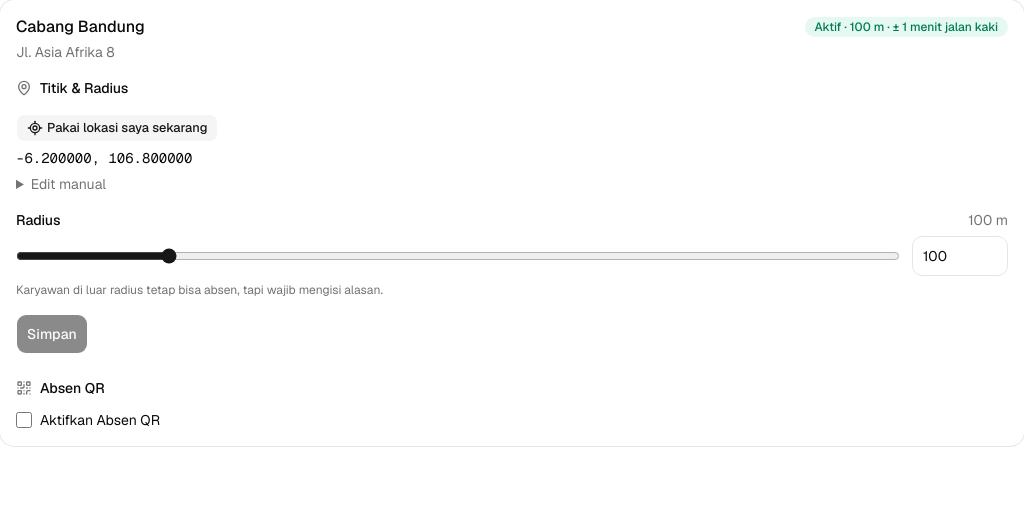
Test case: LocationForm › shows the returned error in an Alert when the save fails
Replace the text in the number field named "radius dalam meter" with "150" at x=960, y=256, box [912,236,1008,276]
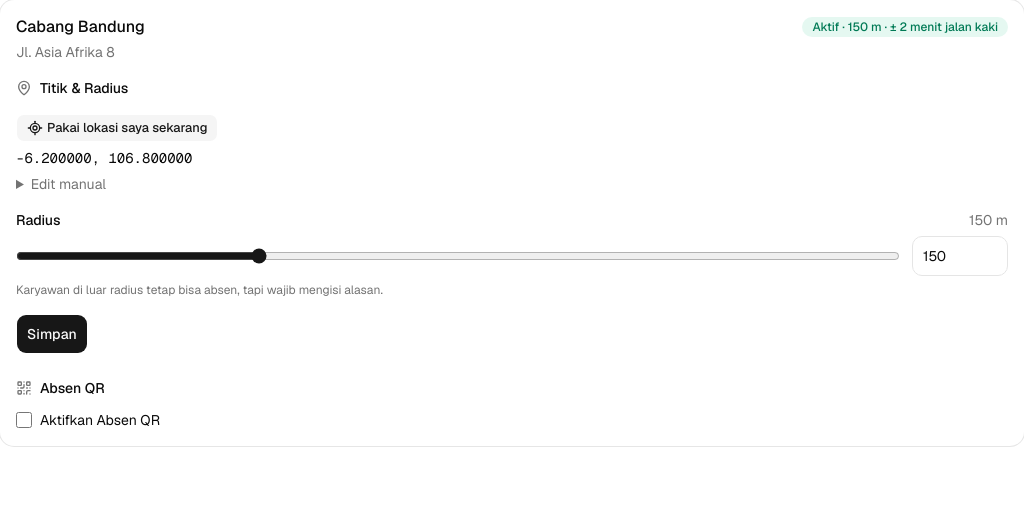
Click the button "Simpan" at x=52, y=334, box [16,314,88,354]
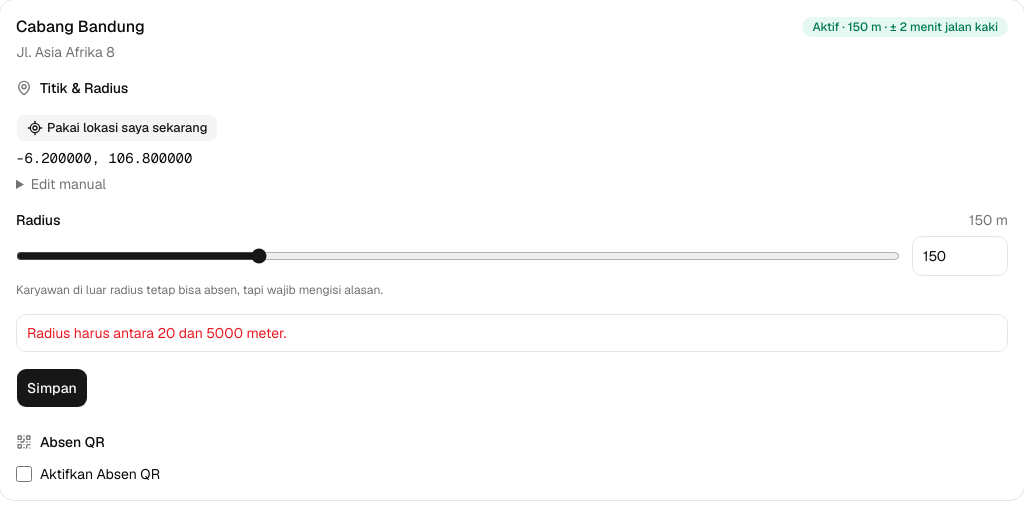
Now the text "Radius harus antara 20 dan 5000 meter." is shown, box [27,324,286,342]
